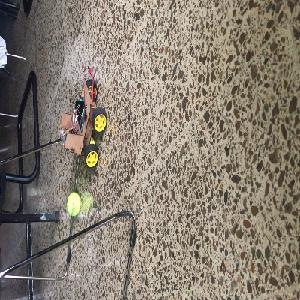Ball: (66, 193, 80, 216)
Robot: (61, 77, 107, 168)
